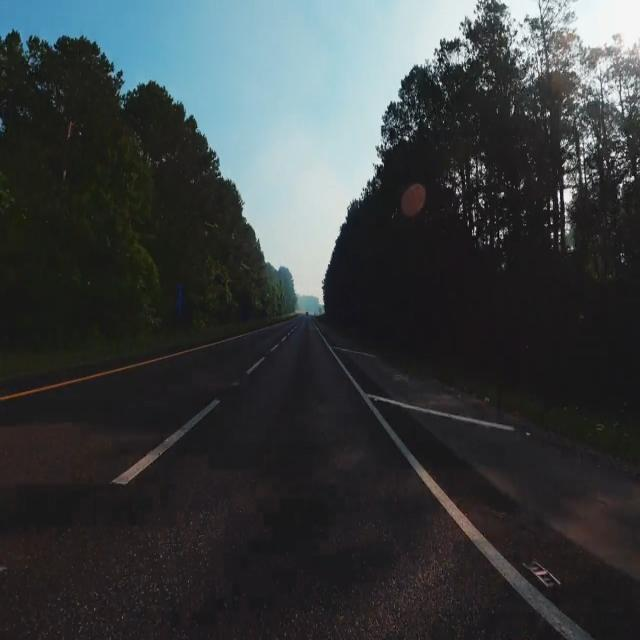asphalt: (0, 317, 562, 639), (391, 417, 640, 636)
